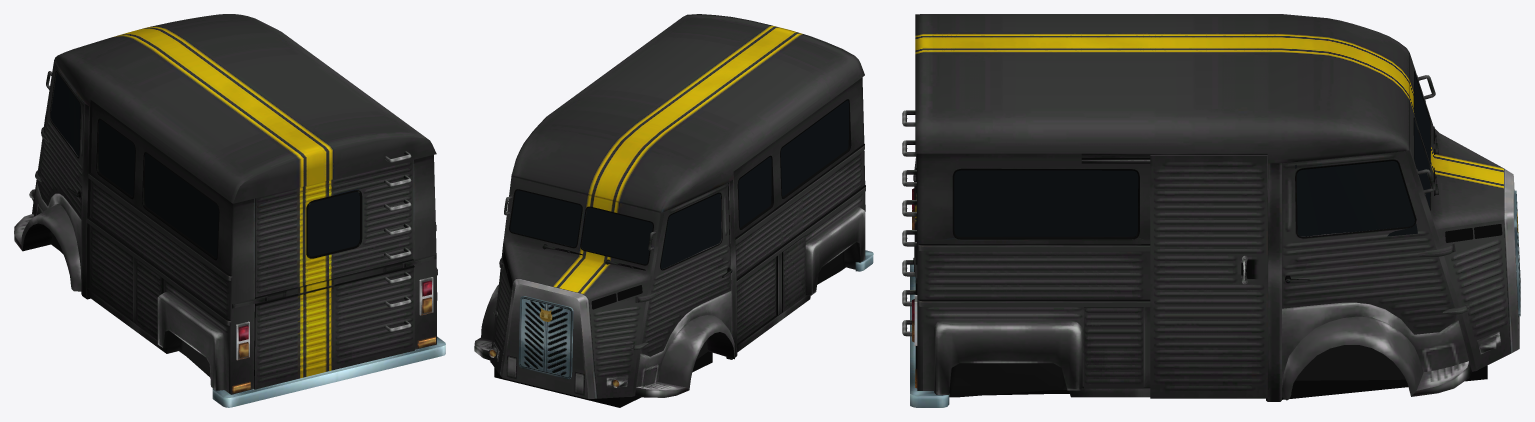
The model's file is body.fbx.
3 renders of one model, left to right at view 1: azimuth 30°, elevation 25°; view 2: azimuth 150°, elevation 25°; view 3: azimuth 270°, elevation 25°, orthographic. The views are drawn at different scales.
Visible parts, largest first — view 1: body; view 2: body; view 3: body.
Part boxes in pixels (x1,y1,x2,y2): body: (14,14,445,407); body: (474,14,873,407); body: (902,14,1520,407).
Bounding box in the file's own units: 1.94 × 2.02 × 3.74.
